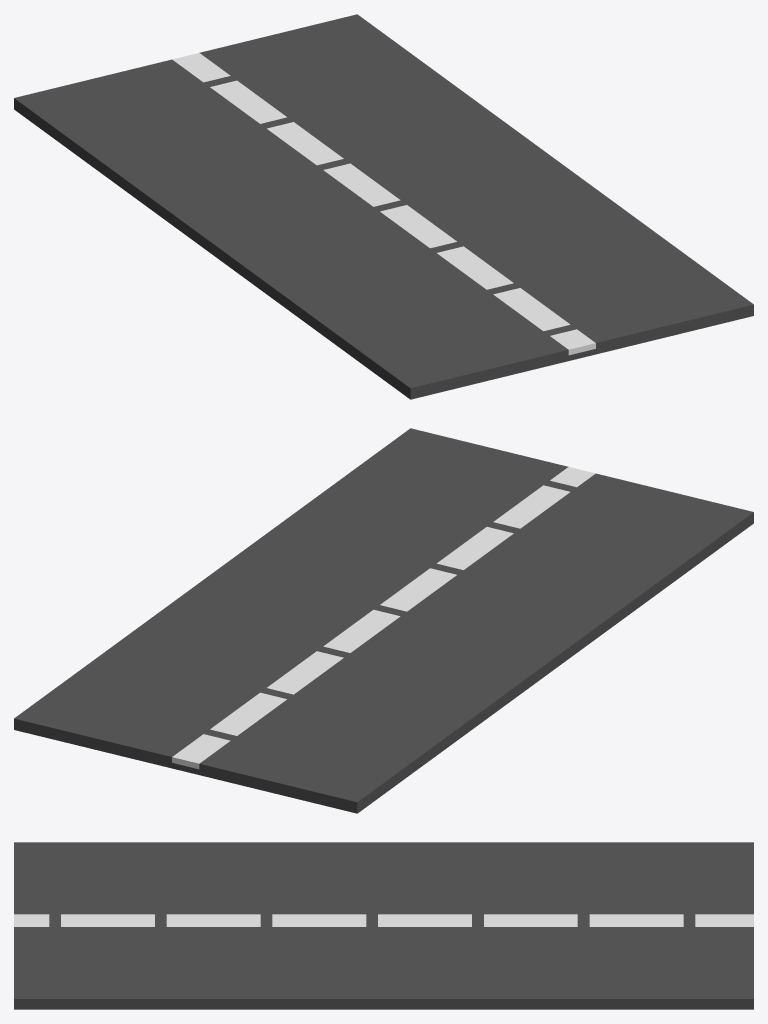
File: road2_0.glb
The picture shows the model from 3 angles, top to bottom: view 1: azimuth 30°, elevation 25°; view 2: azimuth 150°, elevation 25°; view 3: azimuth 270°, elevation 25°; orthographic projection. The views are drawn at different scales.
Visible parts, largest first — view 1: road; view 2: road; view 3: road.
Boxes of the visible parts, <box> form: road: <box>14,14,753,399</box>; road: <box>14,428,753,813</box>; road: <box>14,842,753,1009</box>.
Size of the model in its own units: 63 by 2 by 126.
Materials: 1 (1 with a texture image).
